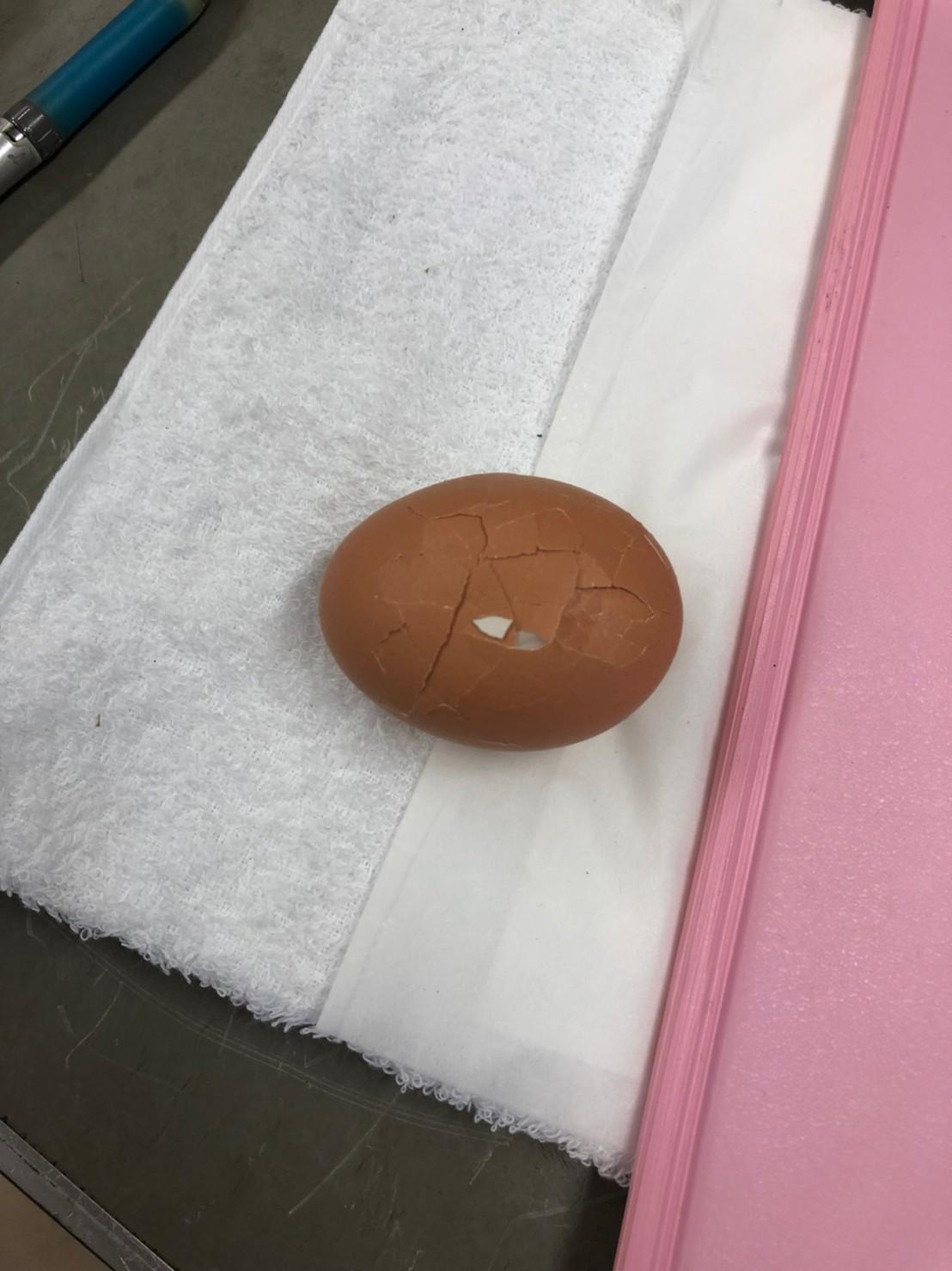egg: (312, 471, 691, 757)
